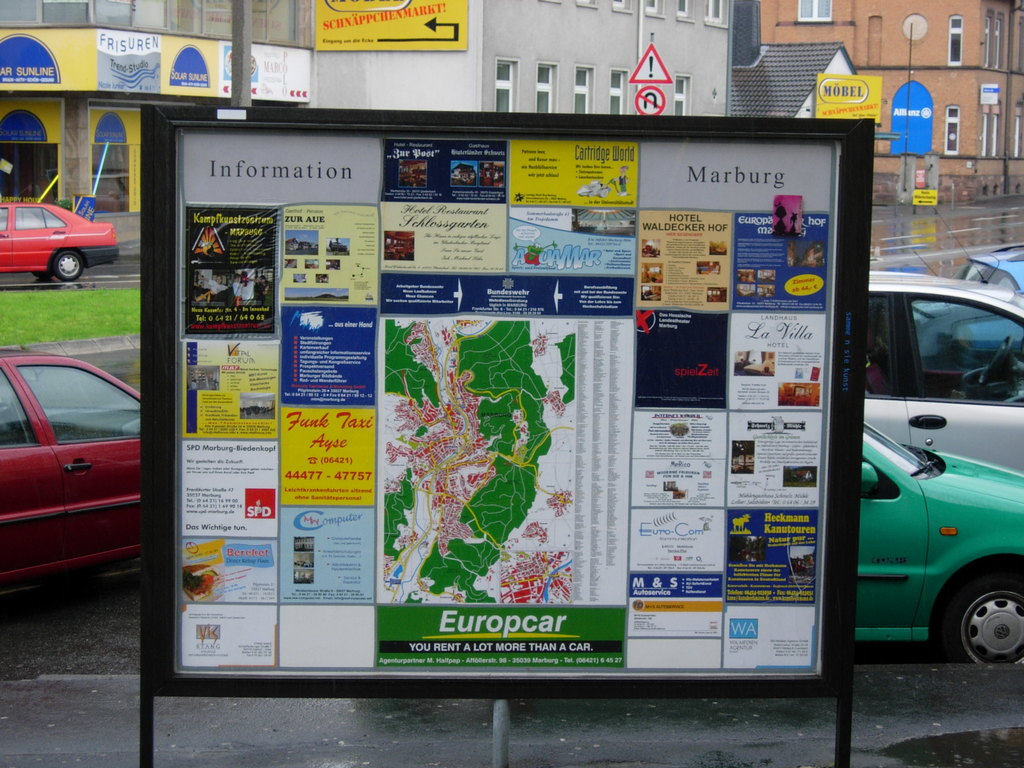Car: (846, 419, 1023, 665), (863, 206, 1023, 471), (0, 349, 141, 608), (5, 182, 121, 279), (947, 244, 1023, 348)
